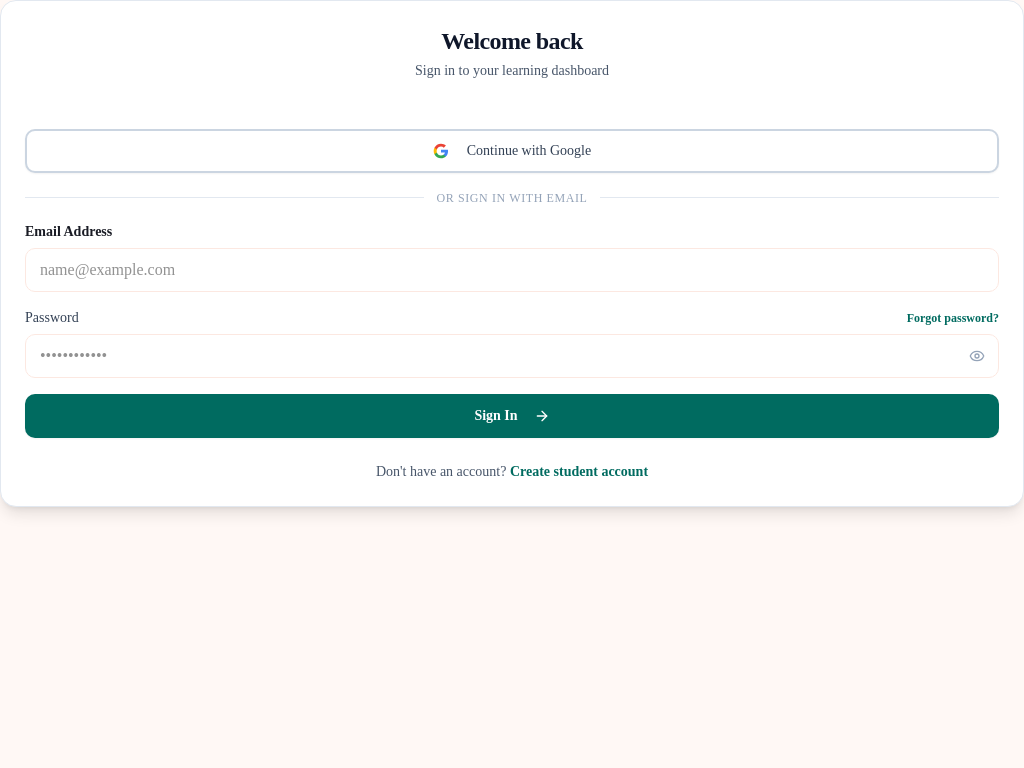
Authentication Loading & Session Recovery Flows › 1. Email/Password Login Flow › recovers cleanly on authentication failure and preserves form values
The image size is (1024, 768).
Type "wrong@example.com" into the field labelled "Email Address" at (512, 270), box [25,248,999,292]
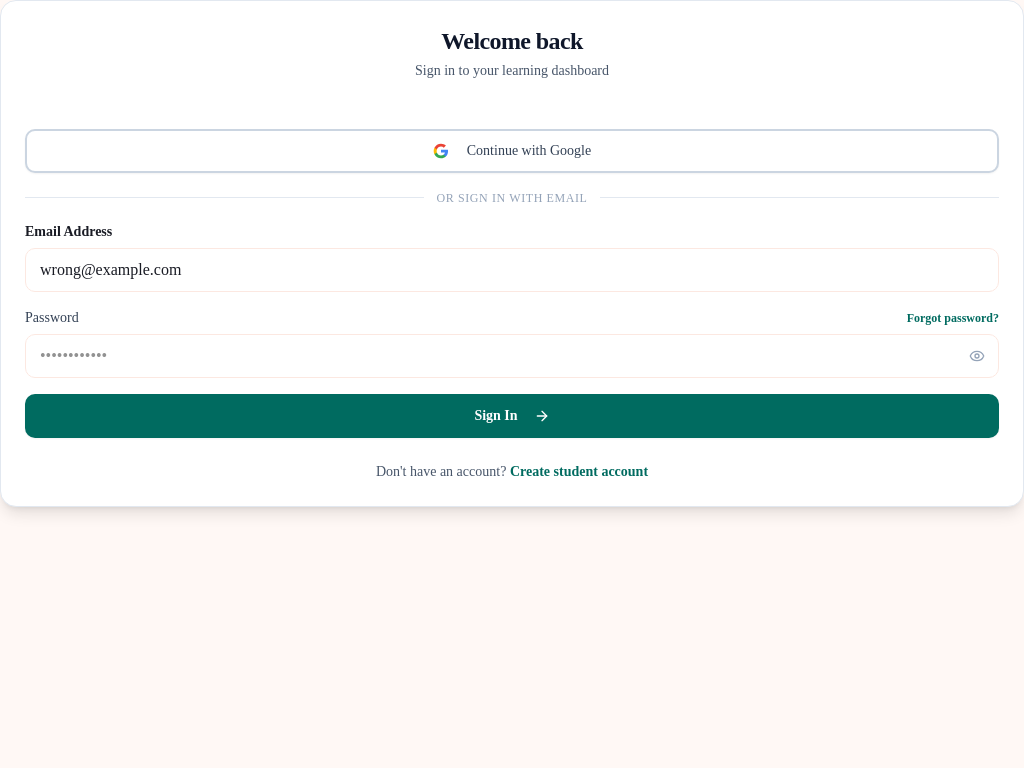
Type "wrongpass123" into the password field labelled "Password" at (512, 356), box [25,334,999,378]
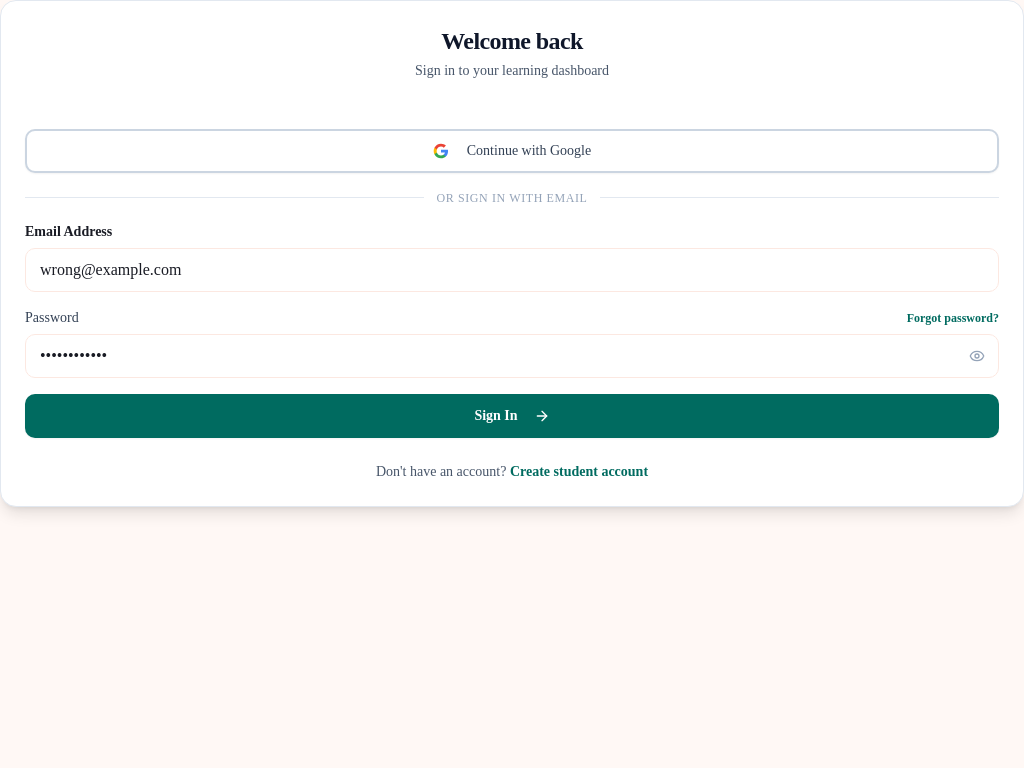
Click the button "Sign In" at (512, 416), box [25,394,999,438]
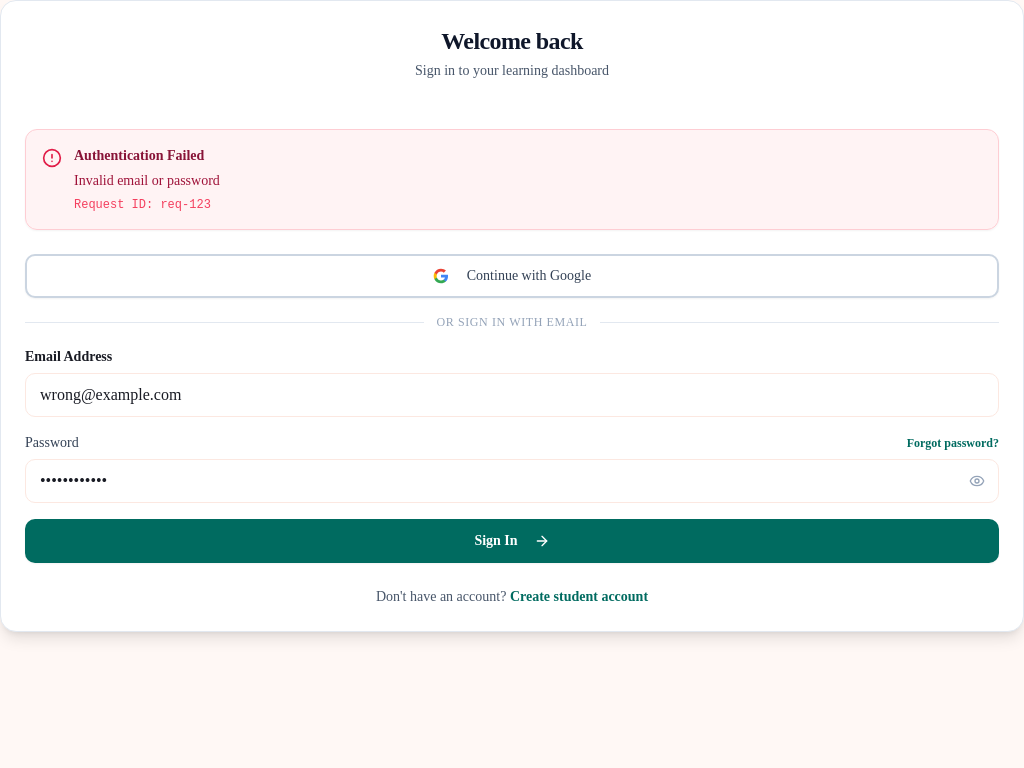
Expected: the button "Sign In" is enabled, [25,519,999,563]
Now the text "Invalid email or password" is shown, box [74,173,220,188]
